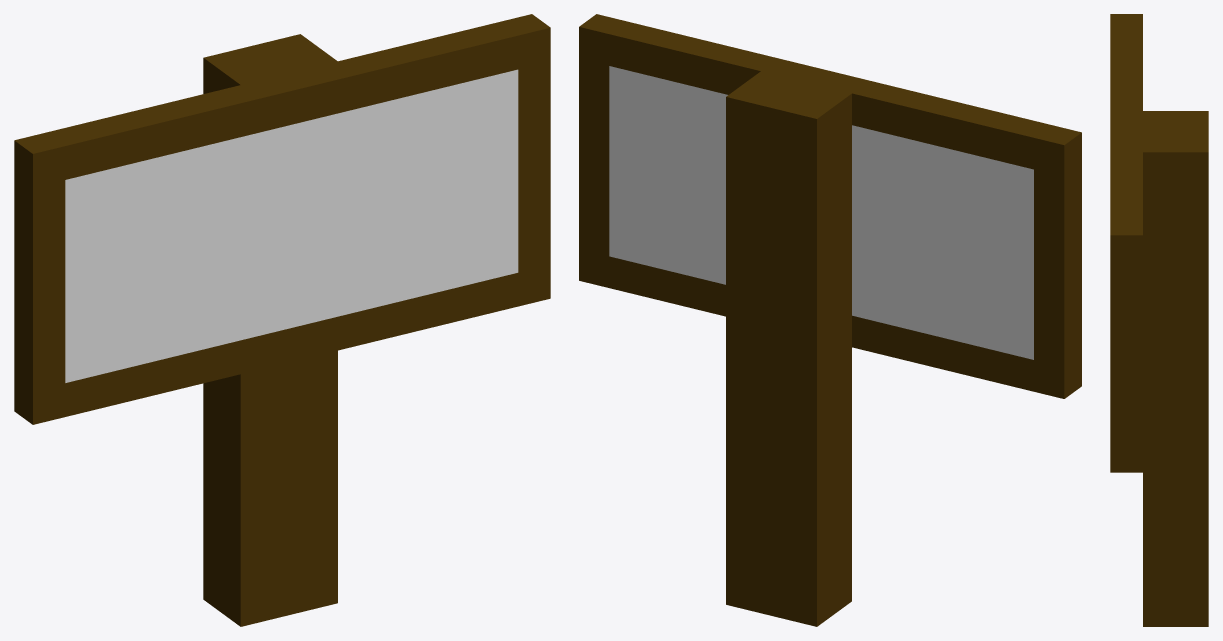
Rendered from postsign.obj.
The picture shows the model from 3 angles, left to right: view 1: azimuth 30°, elevation 25°; view 2: azimuth 150°, elevation 25°; view 3: azimuth 270°, elevation 25°; orthographic projection. The views are drawn at different scales.
Bounding box in the file's own units: 16 × 16 × 3.
Materials: 1 (1 with a texture image).
